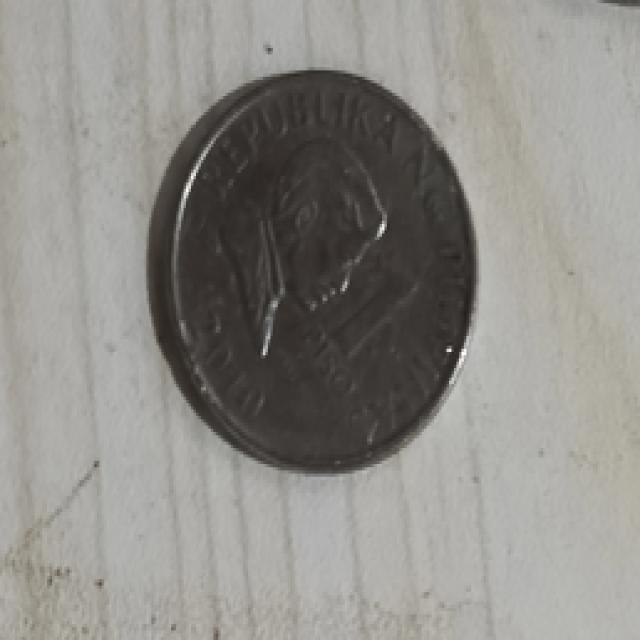1_peso: (154, 70, 469, 470)
